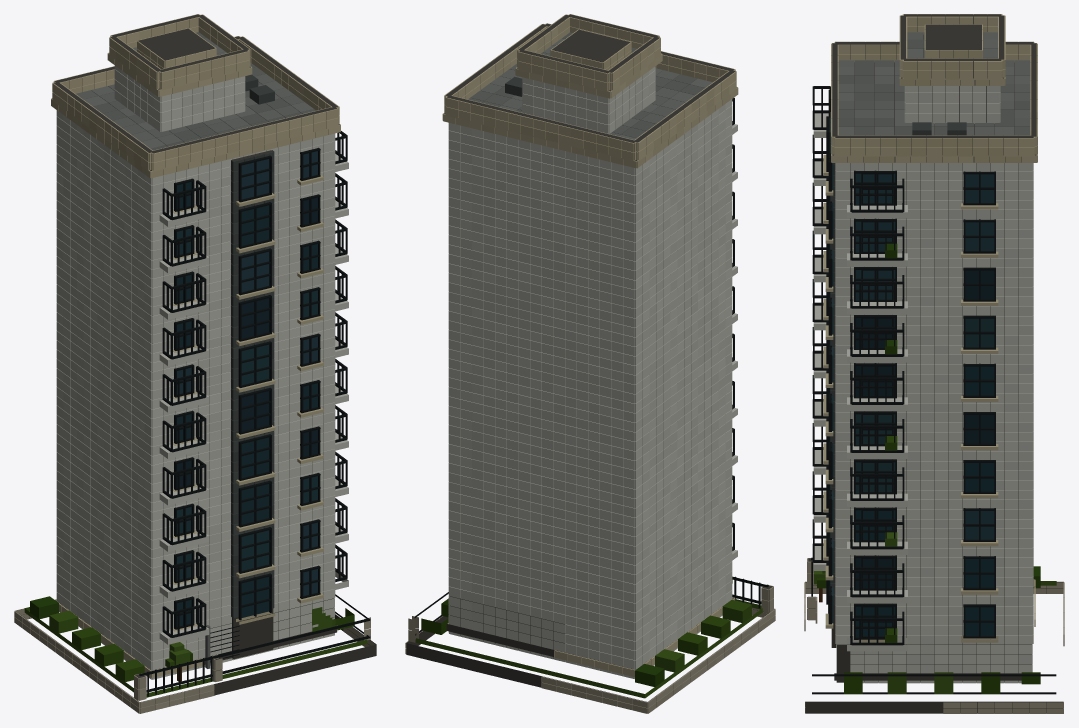
File: SM_StreetFrontage_073.fbx
3 renders of one model, left to right at view 1: azimuth 30°, elevation 25°; view 2: azimuth 150°, elevation 25°; view 3: azimuth 270°, elevation 25°, orthographic. The views are drawn at different scales.
Visible parts, largest first — view 1: SM_StreetFrontage_073; view 2: SM_StreetFrontage_073; view 3: SM_StreetFrontage_073.
Boxes of the visible parts, x1=… form: SM_StreetFrontage_073: x1=14, y1=14, x2=376, y2=713; SM_StreetFrontage_073: x1=405, y1=14, x2=775, y2=713; SM_StreetFrontage_073: x1=804, y1=14, x2=1064, y2=713.
Bounding box in the file's own units: 14 × 12.78 × 33.13.
